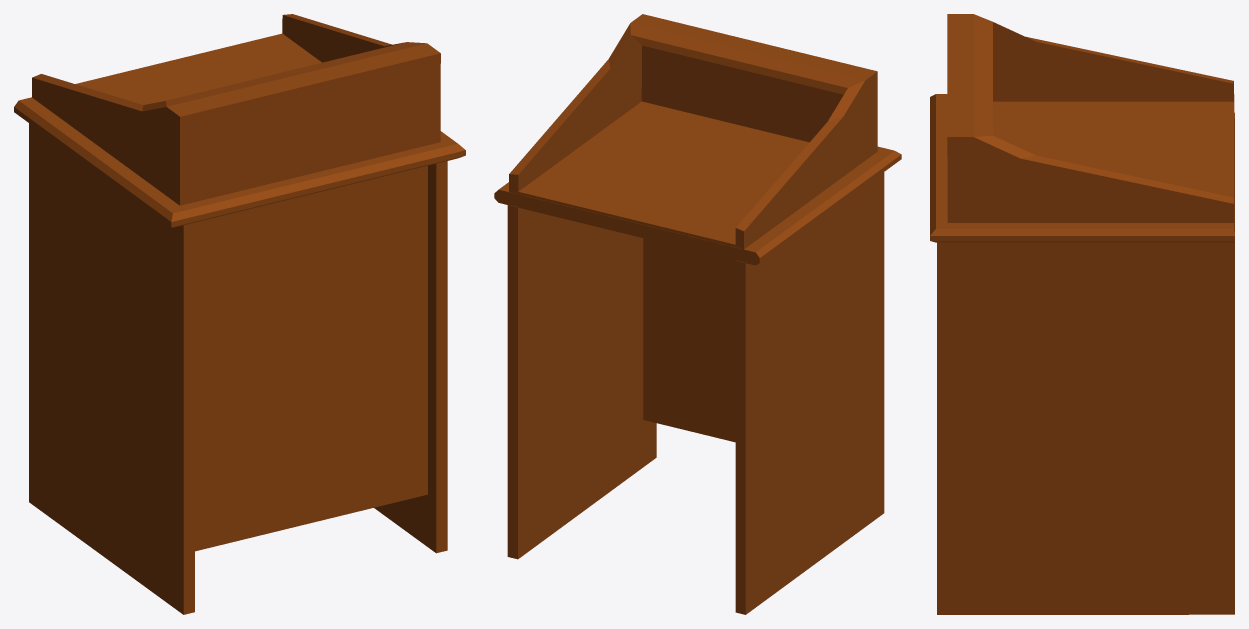
The model's file is meja_podium_lectern.glb.
The picture shows the model from 3 angles, left to right: view 1: azimuth 30°, elevation 25°; view 2: azimuth 150°, elevation 25°; view 3: azimuth 270°, elevation 25°; orthographic projection. The views are drawn at different scales.
Visible parts, largest first — view 1: Plane.021; view 2: Plane.021; view 3: Plane.021.
Boxes of the visible parts, x1=… form: Plane.021: x1=14, y1=14, x2=465, y2=614; Plane.021: x1=494, y1=14, x2=901, y2=614; Plane.021: x1=930, y1=14, x2=1234, y2=614.
Bounding box in the file's own units: 1.13 × 1.81 × 1.05.
